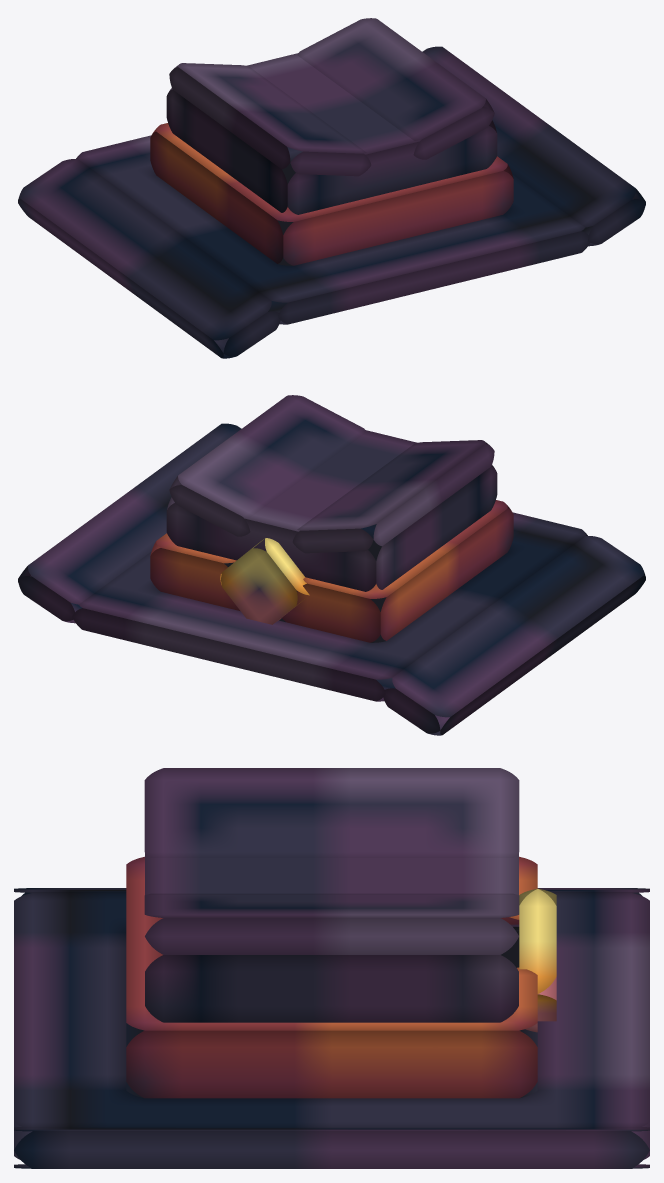
File: DuelistArmorHead.obj
3 views of the same model, one above another, from view 1: azimuth 30°, elevation 25°; view 2: azimuth 150°, elevation 25°; view 3: azimuth 270°, elevation 25° (orthographic). The views are drawn at different scales.
Parts seen in each view (by area): view 1: cube; view 2: cube; view 3: cube.
Boxes of the visible parts, bbox=[...] form: cube: bbox=[18, 18, 645, 358]; cube: bbox=[18, 395, 645, 735]; cube: bbox=[14, 768, 649, 1168].
Bounding box in the file's own units: 1.28 × 0.4399 × 1.06.
Materials: 1 (1 with a texture image).
